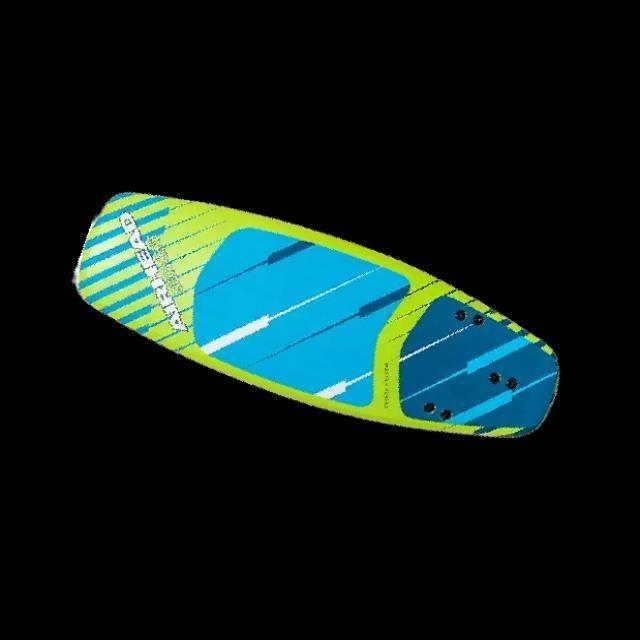Snowboard: (71, 189, 560, 440)
